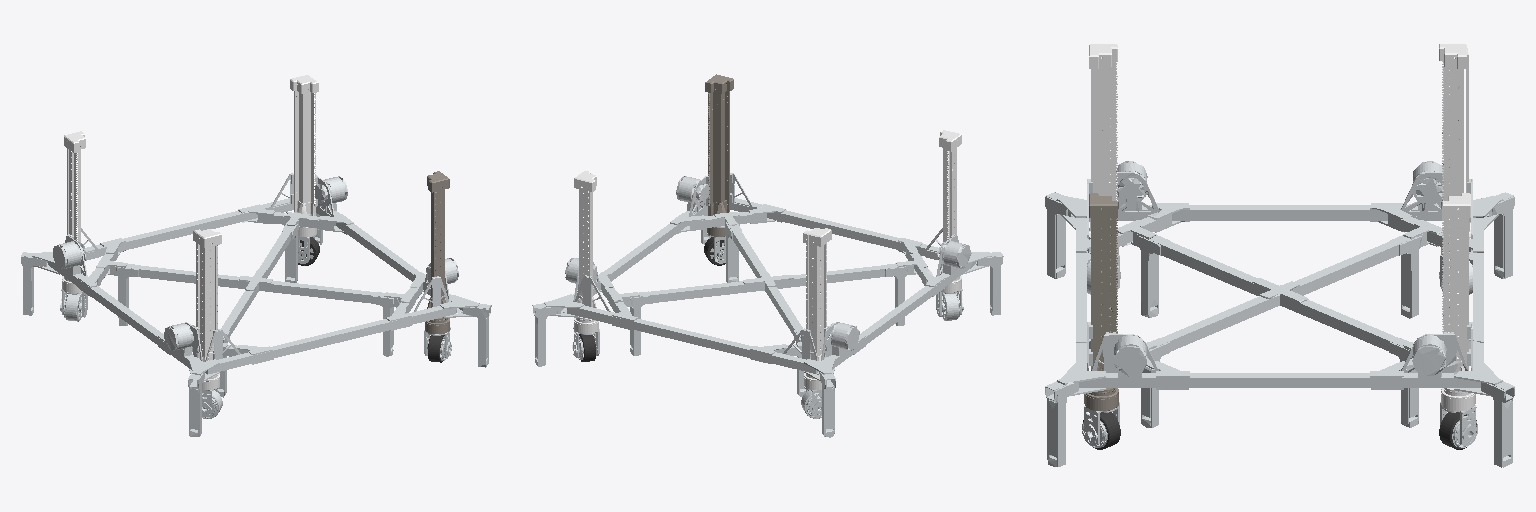
The robot description file, URDF, robot "chassis":
<?xml version="1.0" encoding="utf-8"?>
<!-- This URDF was automatically created by SolidWorks to URDF Exporter! Originally created by [author] ([email redacted]) 
     Commit Version: 1.6.0-4-g7f85cfe  Build Version: 1.6.7995.38578
     For more information, please see http://wiki.ros.org/sw_urdf_exporter -->
<robot
  name="chassis">
  <mujoco>
    <compiler meshdir="meshes/" balanceinertia="true" discardvisual="false"/>
  </mujoco>
  
  <link
    name="base_link">
    <inertial>
      <origin
        xyz="0.001206243352883 -0.353411471815062 0.0169868675481328"
        rpy="0 0 0" />
      <mass
        value="2.80468996320244" />
      <inertia
        ixx="0.0156531893552915"
        ixy="-0.00199800647864253"
        ixz="-2.16593258182503E-09"
        iyy="0.0137485896270813"
        iyz="3.78249746154278E-07"
        izz="0.0272670132587806" />
    </inertial>
    <visual>
      <origin
        xyz="0 0 0"
        rpy="0 0 0" />
      <geometry>
        <mesh
          filename="meshes/base_link.stl" />
      </geometry>
      <material
        name="">
        <color
          rgba="0.898039215686275 0.917647058823529 0.929411764705882 1" />
      </material>
    </visual>
    <site name="imu_site" pos="0 0 0" size="0.01" rgba="1 0 0 1"/>
    <collision>
      <origin
        xyz="0 0 0"
        rpy="0 0 0" />
      <geometry>
        <mesh
          filename="meshes/base_link.stl" />
      </geometry>
    </collision>
  </link>
  <link
    name="LF_rail_link">
    <inertial>
      <origin
        xyz="0.000323207712329743 0.00122200836391367 -0.193011499516211"
        rpy="0 0 0" />
      <mass
        value="0.423891685002296" />
      <inertia
        ixx="0.00268569926186138"
        ixy="-6.14786441604483E-07"
        ixz="2.06164473532814E-06"
        iyy="0.0026887516213796"
        iyz="1.25082002715769E-07"
        izz="6.31485238455102E-05" />
    </inertial>
    <visual>
      <origin
        xyz="0 0 0"
        rpy="0 0 0" />
      <geometry>
        <mesh
          filename="meshes/LF_rail_link.stl" />
      </geometry>
      <material
        name="">
        <color
          rgba="0.647058823529412 0.619607843137255 0.588235294117647 1" />
      </material>
    </visual>
    <collision>
      <origin
        xyz="0 0 0"
        rpy="0 0 0" />
      <geometry>
        <mesh
          filename="meshes/LF_rail_link.stl" />
      </geometry>
    </collision>
  </link>
  <joint
    name="LF_rail_joint"
    type="prismatic">
    <origin
      xyz="0.30193 -0.654 0.33384"
      rpy="0 0 -1.5708" />
    <parent
      link="base_link" />
    <child
      link="LF_rail_link" />
    <axis
      xyz="0 0 -1" />
    <limit
      lower="0"
      upper="0.25"
      effort="40"
      velocity="0.3" />
  </joint>
  <link
    name="LF_yaw_link">
    <inertial>
      <origin
        xyz="0.000568406701830337 0.000630421851788743 -0.0327237483550479"
        rpy="0 0 0" />
      <mass
        value="0.0770013843180103" />
      <inertia
        ixx="2.45442355955693E-05"
        ixy="-2.63913967884141E-06"
        ixz="-5.55954589593146E-08"
        iyy="2.45411324784832E-05"
        iyz="2.22477890151273E-08"
        izz="1.65440756743999E-05" />
    </inertial>
    <visual>
      <origin
        xyz="0 0 0"
        rpy="0 0 0" />
      <geometry>
        <mesh
          filename="meshes/LF_yaw_link.stl" />
      </geometry>
      <material
        name="">
        <color
          rgba="0.898039215686275 0.917647058823529 0.929411764705882 1" />
      </material>
    </visual>
    <collision>
      <origin
        xyz="0 0 0"
        rpy="0 0 0" />
      <geometry>
        <mesh
          filename="meshes/LF_yaw_link.stl" />
      </geometry>
    </collision>
  </link>
  <joint
    name="LF_yaw_joint"
    type="continuous">
    <origin
      xyz="0 0 -0.3778"
      rpy="0 0 0" />
    <parent
      link="LF_rail_link" />
    <child
      link="LF_yaw_link" />
    <axis
      xyz="0 0 1" />
    <limit effort="1.2" velocity="33.5" />
  </joint>
  <link
    name="LF_wheel_link">
    <inertial>
      <origin
        xyz="1.56850072374759E-08 4.30293342623678E-10 -0.0101916146396585"
        rpy="0 0 0" />
      <mass
        value="0.0577207762041498" />
      <inertia
        ixx="2.55897605759985E-05"
        ixy="-1.6818202520996E-20"
        ixz="2.5410988417629E-20"
        iyy="2.55897605759985E-05"
        iyz="-2.46700820545932E-21"
        izz="4.3087403681986E-05" />
    </inertial>
    <visual>
      <origin
        xyz="0 0 0"
        rpy="0 0 0" />
      <geometry>
        <mesh
          filename="meshes/LF_wheel_link.stl" />
      </geometry>
      <material
        name="">
        <color
          rgba="0.298039215686275 0.298039215686275 0.298039215686275 1" />
      </material>
    </visual>
    <collision>
      <origin xyz="0 0 -0.0084" rpy="0 0 0" />
      <geometry>
         <cylinder length="0.04" radius="0.0325" />
      </geometry>
    </collision>
  </link>
  <joint
    name="LF_wheel_joint"
    type="continuous">
    <origin
      xyz="-0.0098995 -0.0098995 -0.0465"
      rpy="1.5708 0 -0.7854" />
    <parent
      link="LF_yaw_link" />
    <child
      link="LF_wheel_link" />
    <axis
      xyz="0 0 -1" />
    <limit effort="3.0" velocity="50.5" />
  </joint>
  <link
    name="LR_rail_link">
    <inertial>
      <origin
        xyz="-0.000289233673301671 0.00111406187541524 -0.191037619402275"
        rpy="0 0 0" />
      <mass
        value="0.466754614668283" />
      <inertia
        ixx="0.00310879697851371"
        ixy="6.14842607403921E-07"
        ixz="-2.06241601038564E-06"
        iyy="0.00311184874202985"
        iyz="1.24342163360843E-07"
        izz="6.83632876241407E-05" />
    </inertial>
    <visual>
      <origin
        xyz="0 0 0"
        rpy="0 0 0" />
      <geometry>
        <mesh
          filename="meshes/LR_rail_link.stl" />
      </geometry>
      <material
        name="">
        <color
          rgba="1 1 1 1" />
      </material>
    </visual>
    <collision>
      <origin xyz="0 0 -0.0084" rpy="0 0 0" />
      <geometry>
         <cylinder length="0.04" radius="0.0325" />
      </geometry>
    </collision>
  </link>
  <joint
    name="LR_rail_joint"
    type="prismatic">
    <origin
      xyz="0.30193 -0.054 0.33384"
      rpy="0 0 -1.5708" />
    <parent
      link="base_link" />
    <child
      link="LR_rail_link" />
    <axis
      xyz="0 0 -1" />
    <limit
      lower="0"
      upper="0.25"
      effort="40"
      velocity="0.3" />
  </joint>
  <link
    name="LR_yaw_link">
    <inertial>
      <origin
        xyz="-0.000630421886871152 0.000568384246390996 -0.0327237490517741"
        rpy="0 0 0" />
      <mass
        value="0.0770013882453619" />
      <inertia
        ixx="2.45411327439613E-05"
        ixy="2.63913961841144E-06"
        ixz="-2.22477867247389E-08"
        iyy="2.45442356210745E-05"
        iyz="-5.55954645244231E-08"
        izz="1.65440759343348E-05" />
    </inertial>
    <visual>
      <origin
        xyz="0 0 0"
        rpy="0 0 0" />
      <geometry>
        <mesh
          filename="meshes/LR_yaw_link.stl" />
      </geometry>
      <material
        name="">
        <color
          rgba="0.898039215686275 0.917647058823529 0.929411764705882 1" />
      </material>
    </visual>
    <collision>
      <origin
        xyz="0 0 0"
        rpy="0 0 0" />
      <geometry>
        <mesh
          filename="meshes/LR_yaw_link.stl" />
      </geometry>
    </collision>
  </link>
  <joint
    name="LR_yaw_joint"
    type="continuous">
    <origin
      xyz="0 0 -0.3778"
      rpy="0 0 0" />
    <parent
      link="LR_rail_link" />
    <child
      link="LR_yaw_link" />
    <axis
      xyz="0 0 1" />
    <limit effort="1.2" velocity="33.5" />
  </joint>
  <link
    name="LR_wheel_link">
    <inertial>
      <origin
        xyz="0 4.30293314868102E-10 -0.0101915989546513"
        rpy="0 0 0" />
      <mass
        value="0.0577207762041503" />
      <inertia
        ixx="2.55897605759986E-05"
        ixy="-5.01689226695686E-21"
        ixz="4.2351647362715E-21"
        iyy="2.55897605759987E-05"
        iyz="-8.28624819028303E-22"
        izz="4.30874036819862E-05" />
    </inertial>
    <visual>
      <origin
        xyz="0 0 0"
        rpy="0 0 0" />
      <geometry>
        <mesh
          filename="meshes/LR_wheel_link.stl" />
      </geometry>
      <material
        name="">
        <color
          rgba="0.298039215686275 0.298039215686275 0.298039215686275 1" />
      </material>
    </visual>
    <collision>
      <origin xyz="0 0 -0.0084" rpy="0 0 0" />
      <geometry>
         <cylinder length="0.04" radius="0.0325" />
      </geometry>
    </collision>
  </link>
  <joint
    name="LR_wheel_joint"
    type="continuous">
    <origin
      xyz="0.0098995 -0.0098995 -0.0465"
      rpy="1.5708 0 0.7854" />
    <parent
      link="LR_yaw_link" />
    <child
      link="LR_wheel_link" />
    <axis
      xyz="0 0 -1" />
    <limit effort="3.0" velocity="50.5" />
  </joint>
  <link
    name="RF_rail_link">
    <inertial>
      <origin
        xyz="0.000289240465500162 -0.00111405506414763 -0.191037619252751"
        rpy="0 0 0" />
      <mass
        value="0.466754614192831" />
      <inertia
        ixx="0.00310879697845564"
        ixy="6.14842626494578E-07"
        ixz="2.06241610931618E-06"
        iyy="0.00311184874180785"
        iyz="-1.24342173135181E-07"
        izz="6.83632874597142E-05" />
    </inertial>
    <visual>
      <origin
        xyz="0 0 0"
        rpy="0 0 0" />
      <geometry>
        <mesh
          filename="meshes/RF_rail_link.stl" />
      </geometry>
      <material
        name="">
        <color
          rgba="1 1 1 1" />
      </material>
    </visual>
    <collision>
      <origin xyz="0 0 -0.0084" rpy="0 0 0" />
      <geometry>
         <cylinder length="0.04" radius="0.0325" />
      </geometry>
    </collision>
  </link>
  <joint
    name="RF_rail_joint"
    type="prismatic">
    <origin
      xyz="-0.29807 -0.654 0.33384"
      rpy="0 0 -1.5708" />
    <parent
      link="base_link" />
    <child
      link="RF_rail_link" />
    <axis
      xyz="0 0 -1" />
    <limit
      lower="0"
      upper="0.25"
      effort="40"
      velocity="0.3" />
  </joint>
  <link
    name="RF_yaw_link">
    <inertial>
      <origin
        xyz="0.000630428697367291 -0.000568377435890277 -0.0327237490517741"
        rpy="0 0 0" />
      <mass
        value="0.0770013882453614" />
      <inertia
        ixx="2.45411327439611E-05"
        ixy="2.63913961841144E-06"
        ixz="2.22477867247765E-08"
        iyy="2.45442356210743E-05"
        iyz="5.55954645244213E-08"
        izz="1.65440759343347E-05" />
    </inertial>
    <visual>
      <origin
        xyz="0 0 0"
        rpy="0 0 0" />
      <geometry>
        <mesh
          filename="meshes/RF_yaw_link.stl" />
      </geometry>
      <material
        name="">
        <color
          rgba="0.898039215686275 0.917647058823529 0.929411764705882 1" />
      </material>
    </visual>
    <collision>
      <origin
        xyz="0 0 0"
        rpy="0 0 0" />
      <geometry>
        <mesh
          filename="meshes/RF_yaw_link.stl" />
      </geometry>
    </collision>
  </link>
  <joint
    name="RF_yaw_joint"
    type="revolute">
    <origin
      xyz="0 0 -0.3778"
      rpy="0 0 0" />
    <parent
      link="RF_rail_link" />
    <child
      link="RF_yaw_link" />
    <axis
      xyz="0 0 1" />
    <limit
      lower="-3.14"
      upper="3.14"
      effort="1"
      velocity="10" />
  </joint>
  <link
    name="RF_wheel_link">
    <inertial>
      <origin
        xyz="-9.63149837662769E-09 4.30293300990314E-10 -0.010191598954651"
        rpy="0 0 0" />
      <mass
        value="0.0577207762041501" />
      <inertia
        ixx="2.55897605759986E-05"
        ixy="-1.0053103849182E-20"
        ixz="1.94817577868489E-20"
        iyy="2.55897605759987E-05"
        iyz="-1.41924943319308E-20"
        izz="4.30874036819862E-05" />
    </inertial>
    <visual>
      <origin
        xyz="0 0 0"
        rpy="0 0 0" />
      <geometry>
        <mesh
          filename="meshes/RF_wheel_link.stl" />
      </geometry>
      <material
        name="">
        <color
          rgba="0.898039215686275 0.917647058823529 0.929411764705882 1" />
      </material>
    </visual>
    <collision>
      <origin xyz="0 0 -0.0084" rpy="0 0 0" />
      <geometry>
         <cylinder length="0.04" radius="0.0325" />
      </geometry>
    </collision>
  </link>
  <joint
    name="RF_wheel_joint"
    type="continuous">
    <origin
      xyz="-0.0098995 0.0098995 -0.0465"
      rpy="1.5708 0 -2.3562" />
    <parent
      link="RF_yaw_link" />
    <child
      link="RF_wheel_link" />
    <axis
      xyz="0 0 -1" />
    <limit
      lower="0"
      upper="0"
      effort="0"
      velocity="0" />
  </joint>
  <link
    name="RR_rail_link">
    <inertial>
      <origin
        xyz="-0.000204711713961588 -0.000711658120292946 -0.191037615374873"
        rpy="0 0 0" />
      <mass
        value="0.466754612559275" />
      <inertia
        ixx="0.00310879666597369"
        ixy="-6.14786441604491E-07"
        ixz="-2.06164473532686E-06"
        iyy="0.0031118490254919"
        iyz="-1.25082002715697E-07"
        izz="6.83632621623808E-05" />
    </inertial>
    <visual>
      <origin
        xyz="0 0 0"
        rpy="0 0 0" />
      <geometry>
        <mesh
          filename="meshes/RR_rail_link.stl" />
      </geometry>
      <material
        name="">
        <color
          rgba="1 1 1 1" />
      </material>
    </visual>
    <collision>
      <origin xyz="0 0 -0.0084" rpy="0 0 0" />
      <geometry>
         <cylinder length="0.04" radius="0.0325" />
      </geometry>
    </collision>
  </link>
  <joint
    name="RR_rail_joint"
    type="prismatic">
    <origin
      xyz="-0.29807 -0.054 0.33384"
      rpy="0 0 -1.5708" />
    <parent
      link="base_link" />
    <child
      link="RR_rail_link" />
    <axis
      xyz="0 0 -1" />
    <limit
      lower="0"
      upper="0.25"
      effort="40"
      velocity="0.3" />
  </joint>
  <link
    name="RR_yaw_link">
    <inertial>
      <origin
        xyz="-0.000568384246388172 -0.000630415076371738 -0.0327237490517742"
        rpy="0 0 0" />
      <mass
        value="0.0770013882453617" />
      <inertia
        ixx="2.45442356210744E-05"
        ixy="-2.63913961841145E-06"
        ixz="5.55954645244213E-08"
        iyy="2.45411327439612E-05"
        iyz="-2.2247786724749E-08"
        izz="1.65440759343348E-05" />
    </inertial>
    <visual>
      <origin
        xyz="0 0 0"
        rpy="0 0 0" />
      <geometry>
        <mesh
          filename="meshes/RR_yaw_link.stl" />
      </geometry>
      <material
        name="">
        <color
          rgba="0.898039215686275 0.917647058823529 0.929411764705882 1" />
      </material>
    </visual>
    <collision>
      <origin
        xyz="0 0 0"
        rpy="0 0 0" />
      <geometry>
        <mesh
          filename="meshes/RR_yaw_link.stl" />
      </geometry>
    </collision>
  </link>
  <joint
    name="RR_yaw_joint"
    type="revolute">
    <origin
      xyz="0 0 -0.3778"
      rpy="0 0 0" />
    <parent
      link="RR_rail_link" />
    <child
      link="RR_yaw_link" />
    <axis
      xyz="0 0 1" />
    <limit
      lower="-3.14"
      upper="3.14"
      effort="1"
      velocity="10" />
  </joint>
  <link
    name="RR_wheel_link">
    <inertial>
      <origin
        xyz="4.815749243825E-09 4.30293342623678E-10 -0.0101915941389021"
        rpy="0 0 0" />
      <mass
        value="0.05772077620415" />
      <inertia
        ixx="2.55897605759986E-05"
        ixy="6.36857340287836E-22"
        ixz="-2.71050543121376E-20"
        iyy="2.55897605759986E-05"
        iyz="-1.05672413995155E-20"
        izz="4.30874036819861E-05" />
    </inertial>
    <visual>
      <origin
        xyz="0 0 0"
        rpy="0 0 0" />
      <geometry>
        <mesh
          filename="meshes/RR_wheel_link.stl" />
      </geometry>
      <material
        name="">
        <color
          rgba="0.898039215686275 0.917647058823529 0.929411764705882 1" />
      </material>
    </visual>
    <collision>
      <origin xyz="0 0 -0.0084" rpy="0 0 0" />
      <geometry>
         <cylinder length="0.04" radius="0.0325" />
      </geometry>
    </collision>
  </link>
  <joint
    name="RR_wheel_joint"
    type="continuous">
    <origin
      xyz="0.0098995 0.0098995 -0.0465"
      rpy="1.5708 0 2.3562" />
    <parent
      link="RR_yaw_link" />
    <child
      link="RR_wheel_link" />
    <axis
      xyz="0 0 -1" />
  </joint>
</robot>

--- Facts derived from the render (not from the file) ---
Views: 3 orthographic renders of the robot side by side, from view 1: azimuth 30°, elevation 25°; view 2: azimuth 150°, elevation 25°; view 3: azimuth 270°, elevation 25°.
Model chassis with 13 links and 12 joints (2 revolute, 6 continuous, 4 prismatic), rooted at base_link, posed every joint at zero.
Links seen in each view (by area): view 1: base_link, LR_rail_link, RF_rail_link, LF_rail_link, RR_rail_link; view 2: base_link, LF_rail_link, RR_rail_link, LR_rail_link, RF_rail_link; view 3: base_link, LR_rail_link, LF_rail_link, RF_rail_link, RR_rail_link, LF_yaw_link, LR_yaw_link.
Boxes of the visible links, x1=… form: base_link: x1=21, y1=173, x2=491, y2=436; LR_rail_link: x1=290, y1=75, x2=318, y2=236; RF_rail_link: x1=193, y1=229, x2=221, y2=390; LF_rail_link: x1=425, y1=171, x2=449, y2=333; RR_rail_link: x1=62, y1=131, x2=85, y2=292; base_link: x1=532, y1=173, x2=1003, y2=437; LF_rail_link: x1=705, y1=74, x2=733, y2=236; RR_rail_link: x1=803, y1=228, x2=831, y2=389; LR_rail_link: x1=574, y1=171, x2=598, y2=333; RF_rail_link: x1=939, y1=130, x2=961, y2=292; base_link: x1=1045, y1=161, x2=1514, y2=467; LR_rail_link: x1=1441, y1=193, x2=1475, y2=411; LF_rail_link: x1=1084, y1=193, x2=1118, y2=410; RF_rail_link: x1=1087, y1=44, x2=1118, y2=254; RR_rail_link: x1=1439, y1=44, x2=1472, y2=254; LF_yaw_link: x1=1082, y1=402, x2=1119, y2=447; LR_yaw_link: x1=1440, y1=402, x2=1477, y2=447.
Size in the robot's own frame: 0.7926 by 0.7926 by 0.4608 metres.
13 mesh visuals loaded from 13 distinct referenced files (13 binary STL).